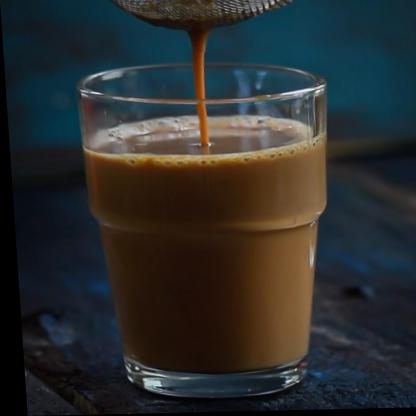milk_based_beverage: (78, 51, 339, 402)
